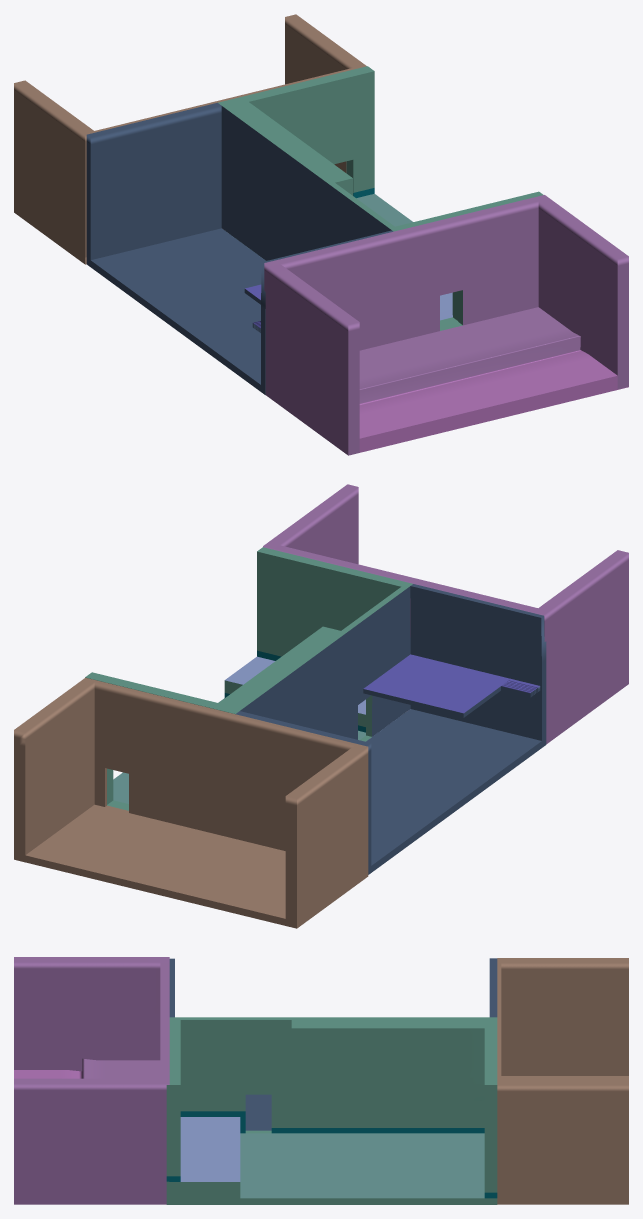
Rendered from room.glb.
3 views of the same model, one above another, from view 1: azimuth 30°, elevation 25°; view 2: azimuth 150°, elevation 25°; view 3: azimuth 270°, elevation 25° (orthographic). The views are drawn at different scales.
Visible parts, largest first — view 1: polySurface1, polySurface4, polySurface7, polySurface8; view 2: polySurface8, polySurface4, polySurface7, polySurface1; view 3: polySurface7, polySurface1, polySurface8, polySurface4.
Boxes of the visible parts, x1,y1,x2,y2 form: polySurface1: [264, 195, 628, 455]; polySurface4: [86, 102, 393, 394]; polySurface7: [218, 66, 543, 325]; polySurface8: [14, 14, 366, 264]; polySurface8: [14, 677, 368, 928]; polySurface4: [236, 584, 546, 874]; polySurface7: [85, 547, 412, 810]; polySurface1: [263, 484, 628, 744]; polySurface7: [166, 1017, 497, 1204]; polySurface1: [14, 957, 169, 1204]; polySurface8: [497, 958, 628, 1204]; polySurface4: [169, 958, 497, 1130].
Bounding box in the file's own units: 0.6186 × 0.2745 × 1.26.
